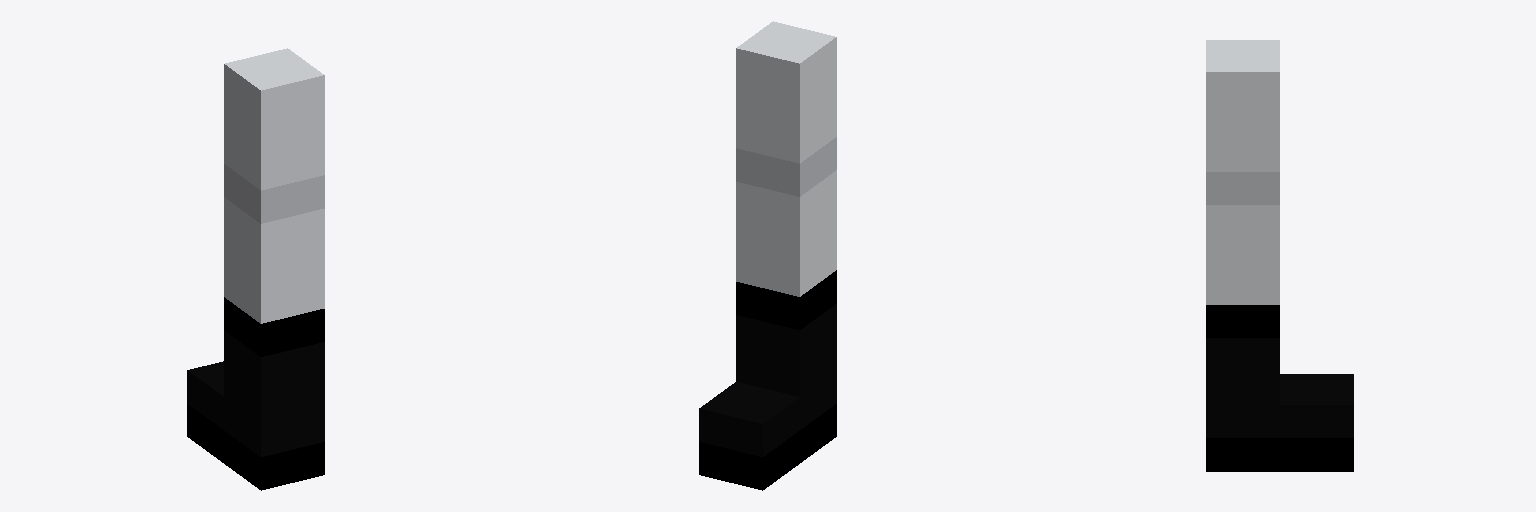
The picture shows the model from 3 angles: view 1: azimuth 30°, elevation 25°; view 2: azimuth 150°, elevation 25°; view 3: azimuth 270°, elevation 25°; orthographic projection.
Parts seen in each view (by area): view 1: object 1; view 2: object 1; view 3: object 1.
Boxes of the visible parts, <box> form: object 1: <box>187,48,324,490</box>; object 1: <box>699,21,836,490</box>; object 1: <box>1206,40,1353,471</box>.
Bounding box in the file's own units: 0.2 × 1.2 × 0.4.
1 materials, 1 textured.